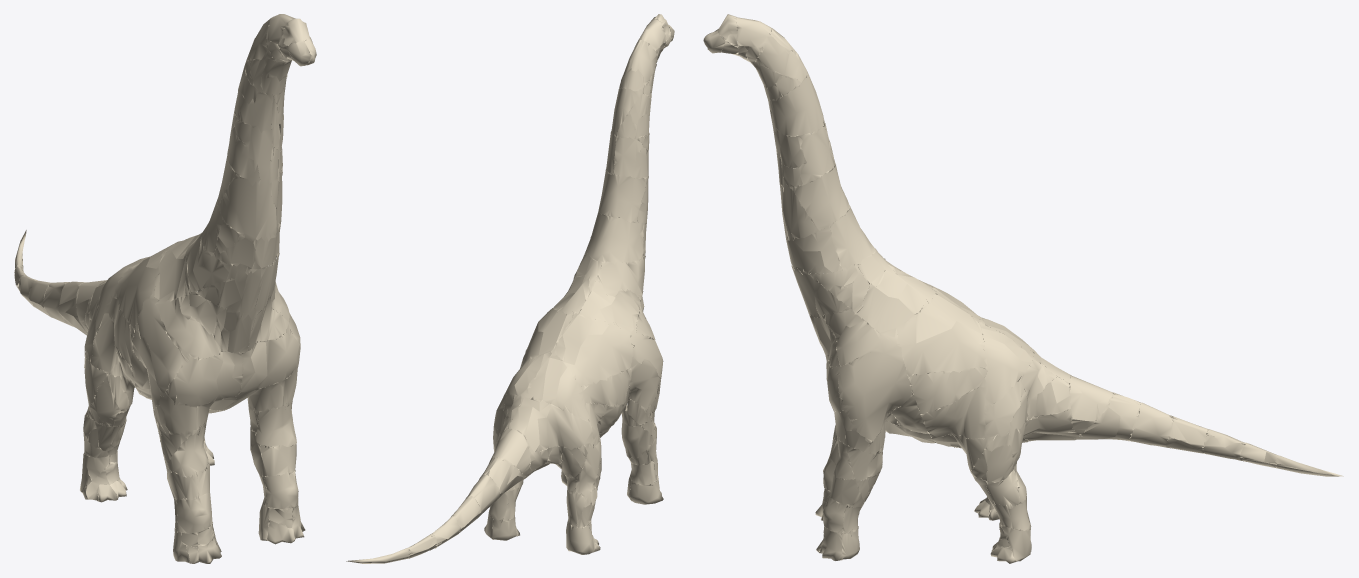
Rendered from brachiosaurus_skeleton.glb.
3 views of the same model, side by side, from view 1: azimuth 30°, elevation 25°; view 2: azimuth 150°, elevation 25°; view 3: azimuth 270°, elevation 25° (orthographic). The views are drawn at different scales.
Visible parts, largest first — view 1: leg_l__part, neck__part, leg_r__part, torso__part, skull__part, tail__part, torso__part.001; view 2: leg_l__part, neck__part, torso__part, leg_r__part, torso__part.001, tail__part, skull__part; view 3: leg_r__part, neck__part, torso__part, tail__part, torso__part.001, skull__part, leg_l__part.
Part boxes in pixels (x1=…): leg_l__part: x1=65, y1=257, x2=226, y2=563; neck__part: x1=176, y1=14, x2=316, y2=314; leg_r__part: x1=14, y1=230, x2=305, y2=544; torso__part: x1=14, y1=224, x2=279, y2=412; skull__part: x1=188, y1=236, x2=279, y2=407; tail__part: x1=16, y1=274, x2=91, y2=327; torso__part.001: x1=97, y1=236, x2=229, y2=413; leg_l__part: x1=507, y1=300, x2=663, y2=554; neck__part: x1=567, y1=14, x2=674, y2=315; torso__part: x1=408, y1=237, x2=645, y2=558; leg_r__part: x1=346, y1=308, x2=581, y2=563; torso__part.001: x1=500, y1=284, x2=610, y2=482; tail__part: x1=419, y1=457, x2=512, y2=552; skull__part: x1=577, y1=249, x2=645, y2=301; leg_r__part: x1=816, y1=315, x2=1343, y2=563; neck__part: x1=703, y1=14, x2=913, y2=322; torso__part: x1=786, y1=231, x2=1277, y2=468; tail__part: x1=1102, y1=392, x2=1248, y2=461; torso__part.001: x1=885, y1=270, x2=1099, y2=447; skull__part: x1=791, y1=257, x2=856, y2=368; leg_l__part: x1=815, y1=292, x2=1069, y2=520.
Size of the model in its own units: 0.7617 by 2.94 by 3.3.
